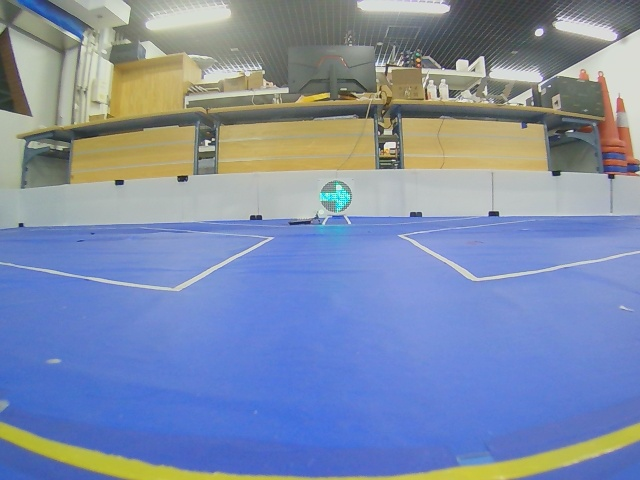right_green: (320, 180, 353, 213)
